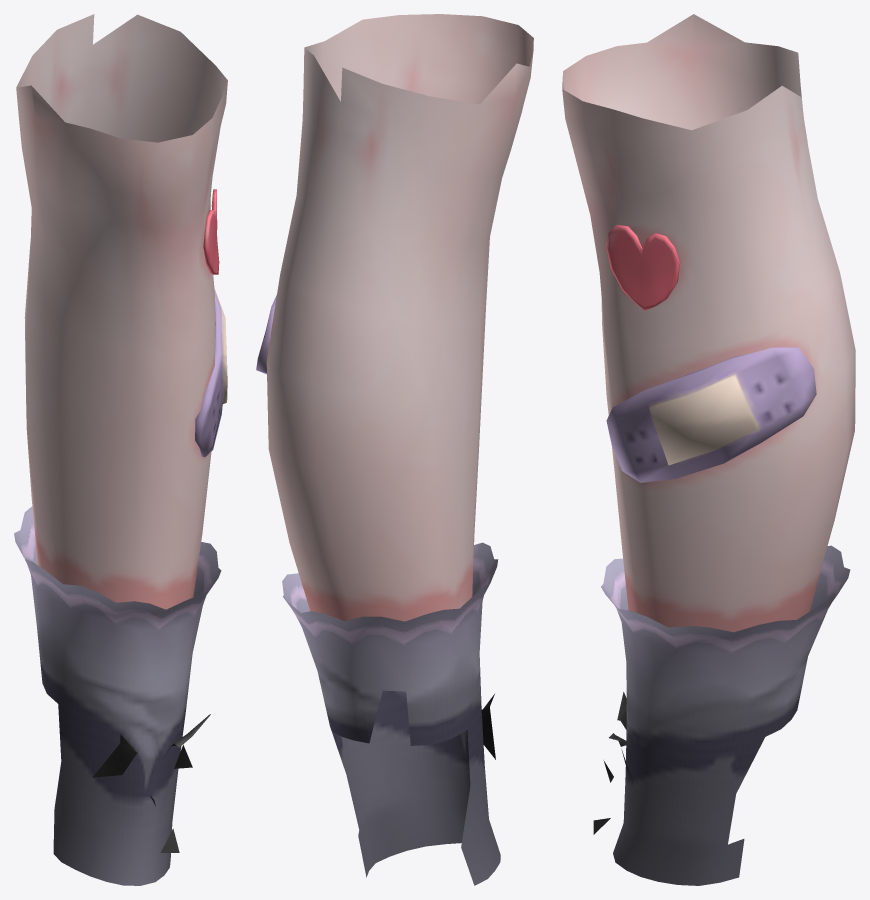
File: leg_lower_L.obj
The picture shows the model from 3 angles, left to right: view 1: azimuth 30°, elevation 25°; view 2: azimuth 150°, elevation 25°; view 3: azimuth 270°, elevation 25°; orthographic projection. The views are drawn at different scales.
Parts seen in each view (by area): view 1: leg_lower_L; view 2: leg_lower_L; view 3: leg_lower_L.
Boxes of the visible parts, <box> form: leg_lower_L: <box>14,14,227,885</box>; leg_lower_L: <box>256,14,533,885</box>; leg_lower_L: <box>562,14,855,885</box>.
Size of the model in its own units: 0.094 by 0.3476 by 0.1138.
Materials: 2 (2 with a texture image).
